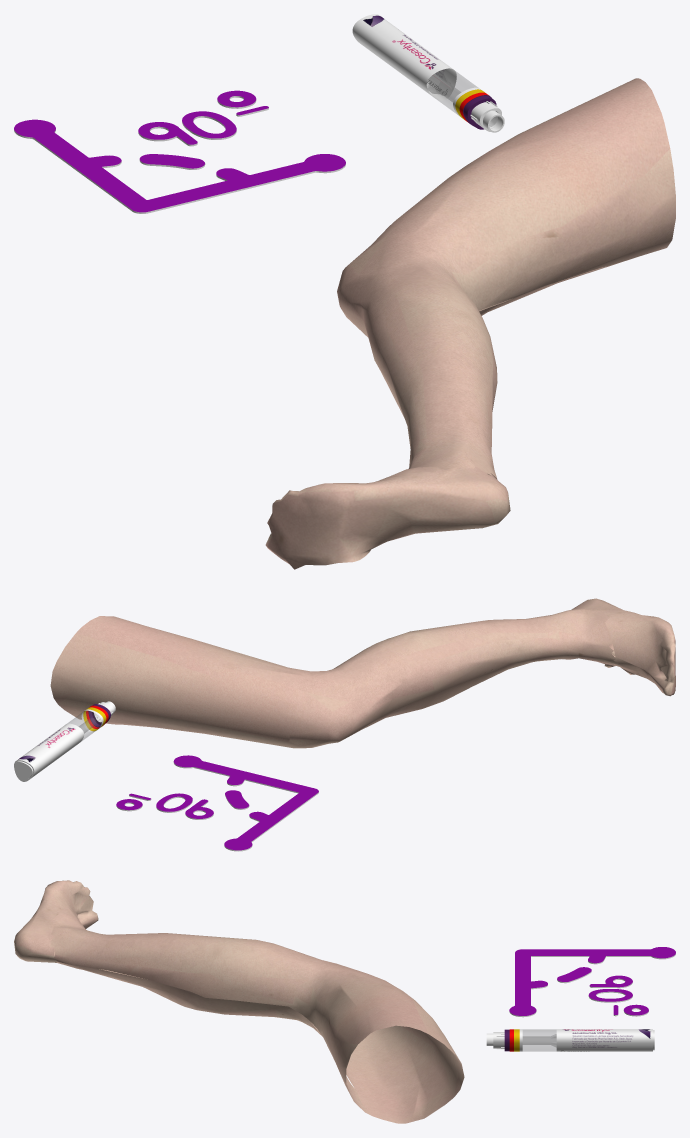
Rendered from CosentyxS5.gltf.
The picture shows the model from 3 angles, top to bottom: view 1: azimuth 30°, elevation 25°; view 2: azimuth 150°, elevation 25°; view 3: azimuth 270°, elevation 25°; orthographic projection. The views are drawn at different scales.
Parts seen in each view (by area): view 1: rp_julia01.001, Shape1, cuerpo001; view 2: rp_julia01.001, Shape1, cuerpo001; view 3: rp_julia01.001, Shape1, cuerpo001.
Part boxes in pixels (left/top/right/bottom): rp_julia01.001: left=265, top=78, right=675, bottom=569; Shape1: left=14, top=90, right=345, bottom=213; cuerpo001: left=352, top=14, right=501, bottom=131; rp_julia01.001: left=50, top=598, right=675, bottom=748; Shape1: left=116, top=755, right=318, bottom=851; cuerpo001: left=14, top=702, right=114, bottom=781; rp_julia01.001: left=14, top=880, right=464, bottom=1123; Shape1: left=509, top=947, right=675, bottom=1017; cuerpo001: left=493, top=1029, right=652, bottom=1051.
Size of the model in its own units: 3.08 by 0.6948 by 4.26.
Materials: 10 (3 with a texture image).
